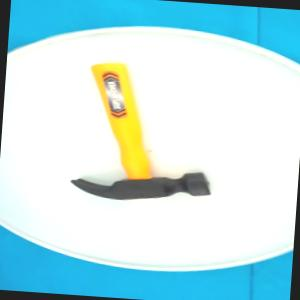martelo: (66, 59, 218, 207)
